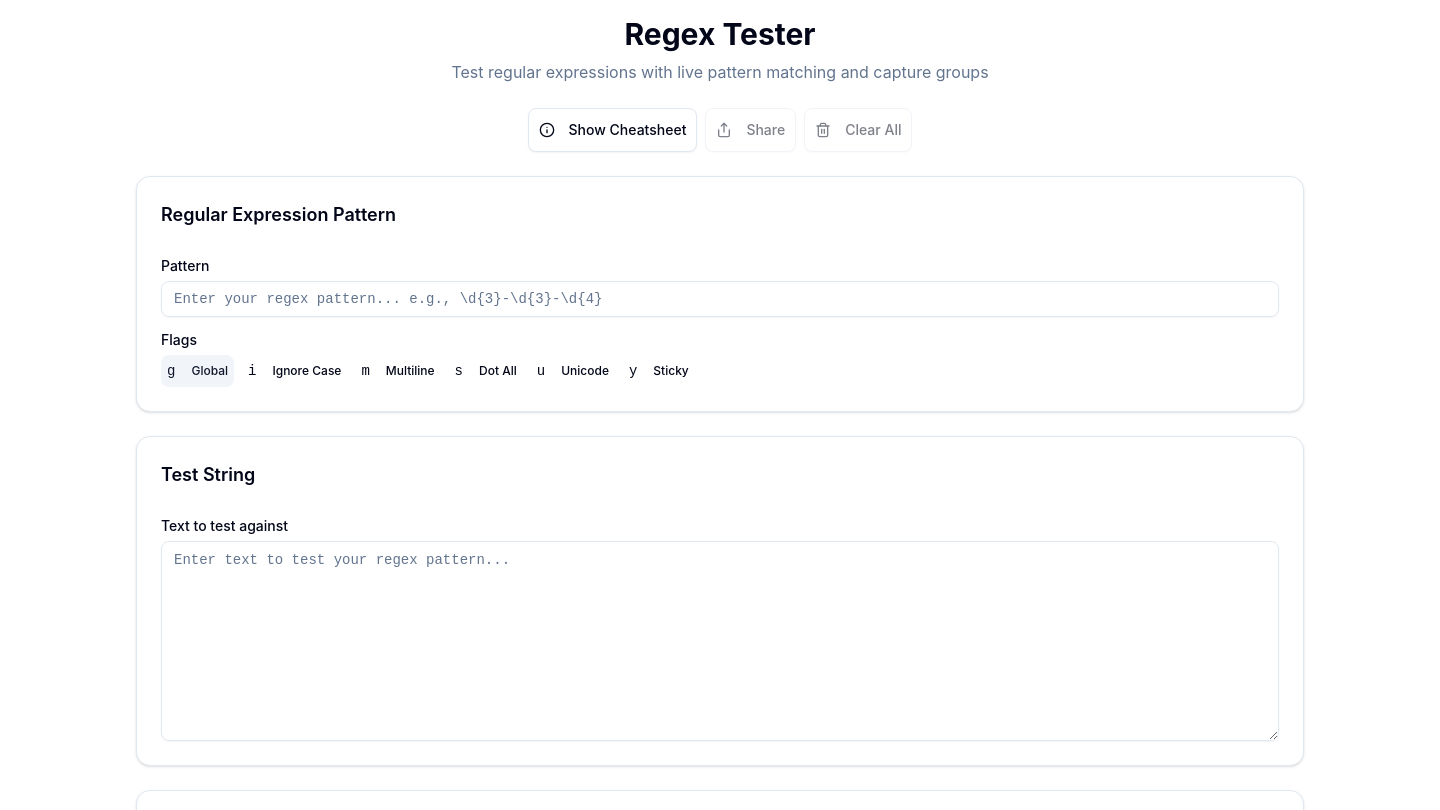
Test: RegexTester › shows "no test text" message when test string is empty but pattern exists
Type "\\d+" into the field labelled "Pattern" at (720, 299), box [161,281,1279,317]
(page scrolled)
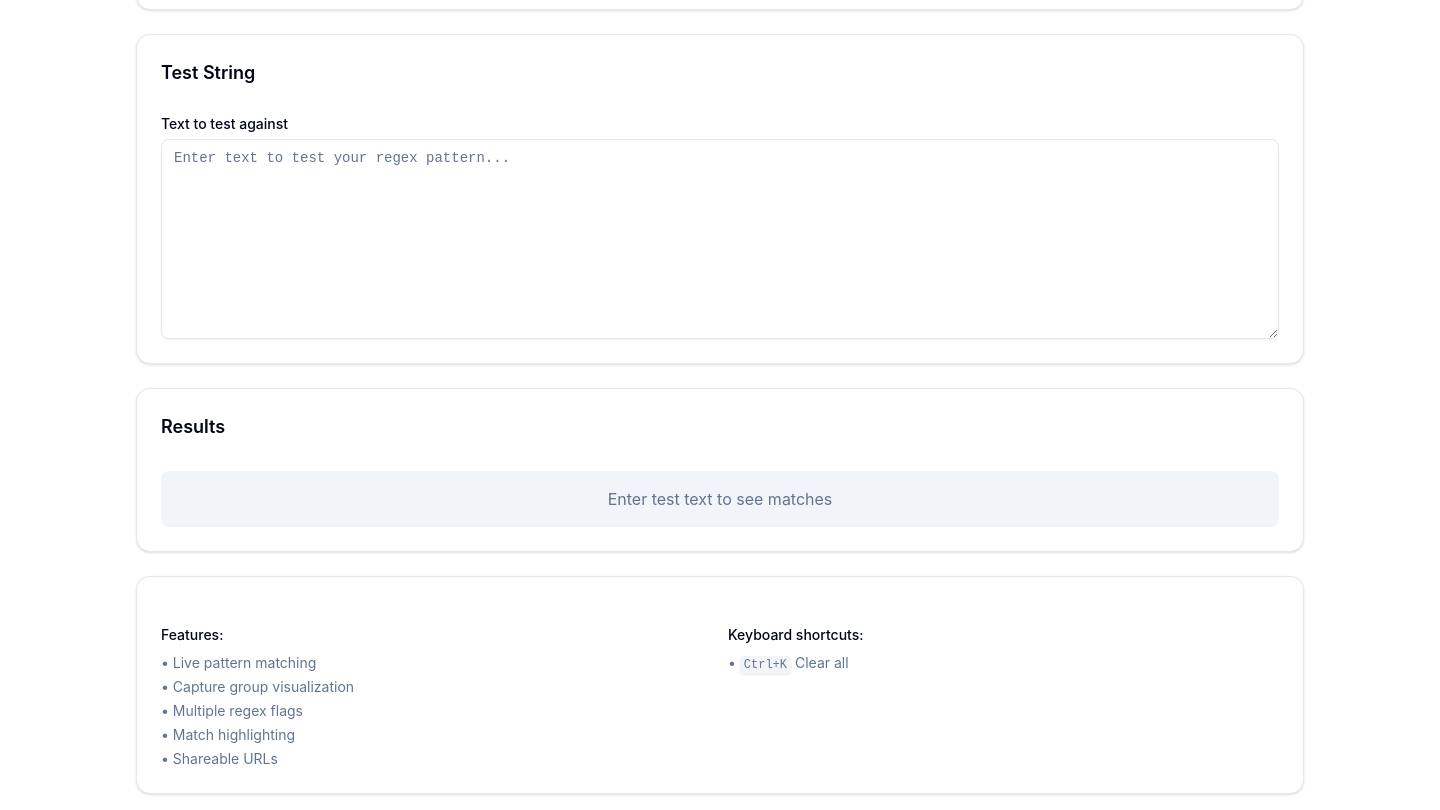
Now the text "Enter test text to see matches" is shown, box [608,489,832,509]
